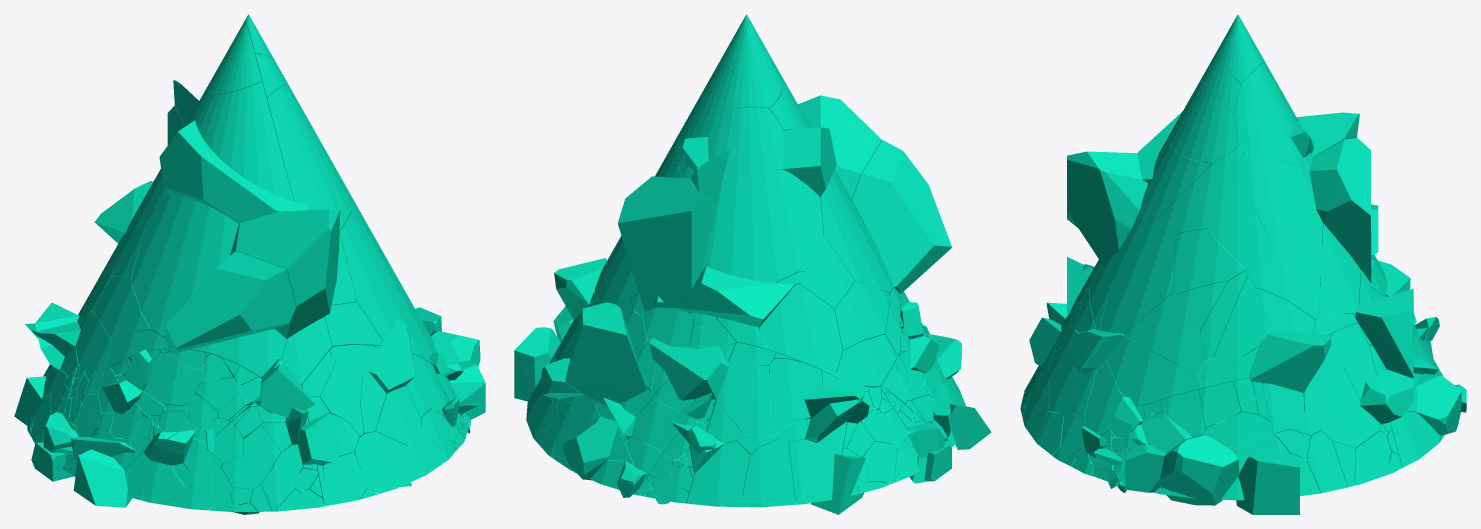
Rendered from Konikirik.fbx.
3 renders of one model, left to right at view 1: azimuth 30°, elevation 25°; view 2: azimuth 150°, elevation 25°; view 3: azimuth 270°, elevation 25°, orthographic. The views are drawn at different scales.
Visible parts, largest first — view 1: Cone_cell.011_cell.019, Cone_cell.011_cell.033, Cone_cell.011_cell.026, Cone_cell.011_cell.069, Cone_cell.011_cell.061, Cone_cell.023_cell.005, Cone_cell.010_cell.035, Cone_cell.015_cell.047, Cone_cell.023_cell.037, Cone_cell.011_cell.003, Cone_cell.011_cell.006, Cone_cell.011_cell.008 (+58 smaller); view 2: Cone_cell.011_cell.025, Cone_cell.023_cell.031, Cone_cell.011_cell.033, Cone_cell.003_cell.053, Cone_cell.011_cell.058, Cone_cell.011_cell.057, Cone_cell.011_cell.019, Cone_cell.011_cell.022, Cone_cell.011_cell.026, Cone_cell.011_cell.061, Cone_cell.021_cell.006, Cone_cell.011_cell.008 (+52 smaller); view 3: Cone_cell.011_cell.026, Cone_cell.023_cell.031, Cone_cell.023_cell.005, Cone_cell.023_cell.060, Cone_cell.023_cell.045, Cone_cell.023_cell.001, Cone_cell.005_cell.069, Cone_cell.023_cell.063, Cone_cell.003_cell.059, Cone_cell.003_cell.053, Cone_cell.023_cell.034, Cone_cell.023_cell.030 (+49 smaller).
Part boxes in pixels (<box>): Cone_cell.011_cell.019: <box>131,194,238,336</box>; Cone_cell.011_cell.033: <box>165,251,296,354</box>; Cone_cell.011_cell.026: <box>230,209,340,352</box>; Cone_cell.011_cell.069: <box>195,81,293,201</box>; Cone_cell.011_cell.061: <box>159,120,307,223</box>; Cone_cell.023_cell.005: <box>334,210,396,340</box>; Cone_cell.010_cell.035: <box>355,431,423,493</box>; Cone_cell.015_cell.047: <box>73,449,132,507</box>; Cone_cell.023_cell.037: <box>285,137,341,231</box>; Cone_cell.011_cell.003: <box>92,276,164,342</box>; Cone_cell.011_cell.006: <box>191,329,286,376</box>; Cone_cell.011_cell.008: <box>205,22,261,95</box>; Cone_cell.011_cell.025: <box>706,169,823,282</box>; Cone_cell.023_cell.031: <box>617,176,716,314</box>; Cone_cell.011_cell.033: <box>852,140,951,295</box>; Cone_cell.003_cell.053: <box>565,302,647,406</box>; Cone_cell.011_cell.058: <box>759,284,842,376</box>; Cone_cell.011_cell.057: <box>709,107,784,176</box>; Cone_cell.011_cell.019: <box>820,169,893,292</box>; Cone_cell.011_cell.022: <box>675,264,794,330</box>; Cone_cell.011_cell.026: <box>798,95,881,199</box>; Cone_cell.011_cell.061: <box>682,127,836,196</box>; Cone_cell.021_cell.006: <box>649,337,743,400</box>; Cone_cell.011_cell.008: <box>723,22,782,110</box>; Cone_cell.011_cell.026: <box>1067,151,1147,279</box>; Cone_cell.023_cell.031: <box>1303,137,1371,285</box>; Cone_cell.023_cell.005: <box>1100,225,1175,333</box>; Cone_cell.023_cell.060: <box>1236,152,1316,248</box>; Cone_cell.023_cell.045: <box>1234,62,1312,170</box>; Cone_cell.023_cell.001: <box>1246,210,1322,319</box>; Cone_cell.005_cell.069: <box>1160,434,1239,505</box>; Cone_cell.023_cell.063: <box>1106,334,1201,405</box>; Cone_cell.003_cell.059: <box>1249,330,1331,394</box>; Cone_cell.003_cell.053: <box>1355,288,1413,378</box>; Cone_cell.023_cell.034: <box>1124,292,1205,374</box>; Cone_cell.023_cell.030: <box>1148,135,1276,239</box>.
Size of what is drawn, in the model's own units: 210 by 205 by 205.
